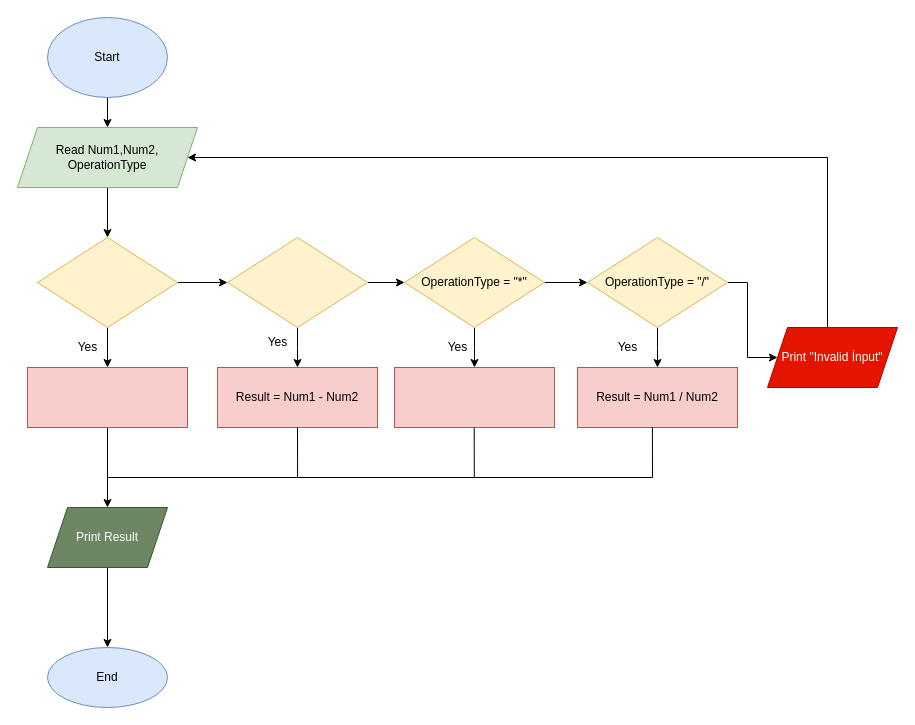
Some shapes in this 915 by 725 pixel diagram are drawn without their labels. The centre of each missing label's shape, as x and y in pixels:
OperationType = "+": (x=107, y=282)
OperationType = "-": (x=297, y=282)
Result = Num1 * Num2: (x=474, y=397)
Result = Num1 + Num2: (x=107, y=397)
